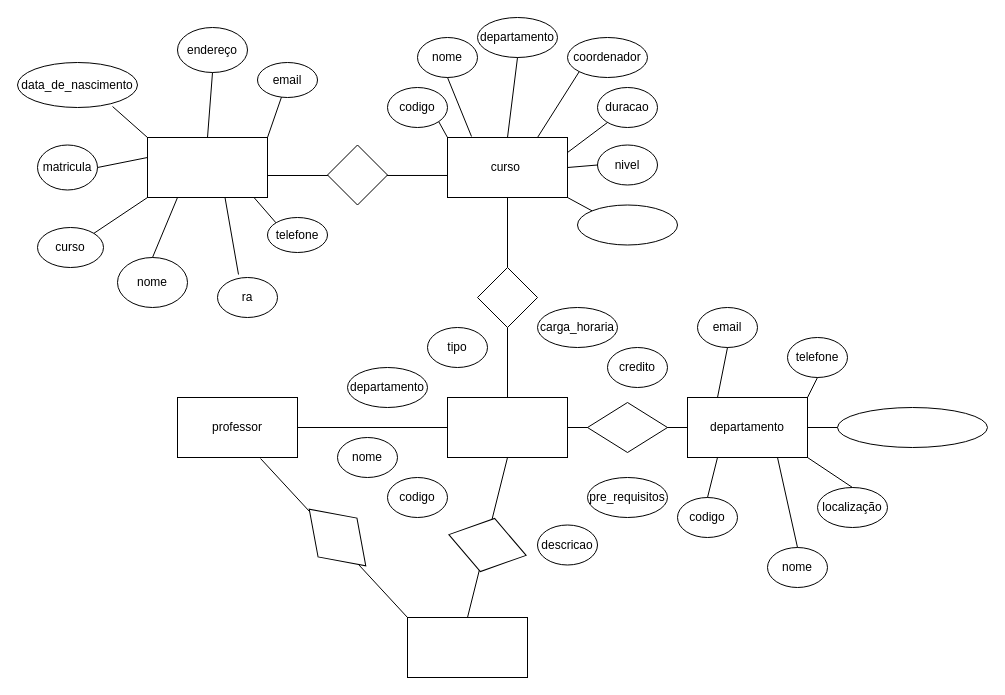
This 1005x695 diagram has some shape labels left out. The box of each missing label's shape, as (x1, y1, x2, y2) in pixels:
aluno: (146, 136, 268, 198)
chefe_de_departamento: (836, 406, 988, 448)
disciplina: (446, 396, 568, 458)
grade_curricular: (576, 204, 678, 245)
integra: (476, 266, 538, 328)
pertence: (326, 144, 388, 205)
turma: (406, 616, 528, 678)
